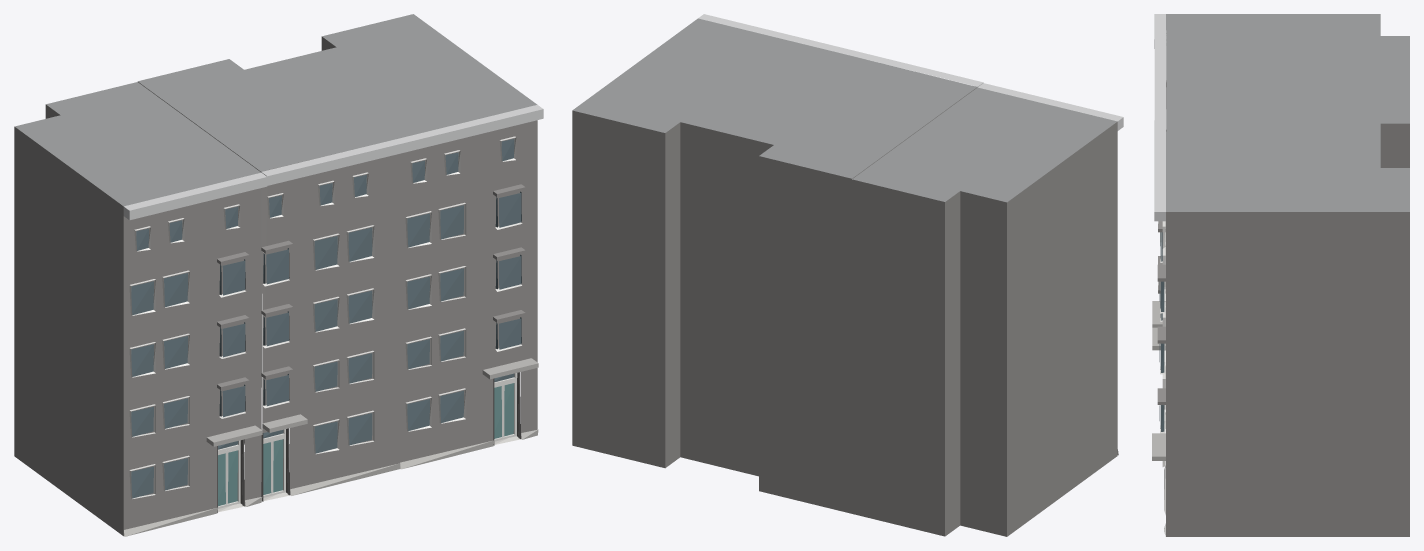
Rendered from chunk-face-burger-45-131-r1.lod2.glb.
3 views of the same model, side by side, from view 1: azimuth 30°, elevation 25°; view 2: azimuth 150°, elevation 25°; view 3: azimuth 270°, elevation 25° (orthographic). The views are drawn at different scales.
Visible parts, largest first — view 1: lod2; view 2: lod2; view 3: lod2.
Part boxes in pixels (x1,y1,x2,y2): lod2: (14, 14, 543, 536); lod2: (572, 14, 1123, 536); lod2: (1152, 14, 1409, 536).
Bounding box in the file's own units: 20.25 × 15.45 × 11.11.
